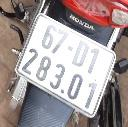0: (64, 71, 86, 102)
1: (81, 79, 101, 111), (83, 46, 103, 77)
2: (19, 47, 43, 76)
3: (47, 61, 69, 92)
6: (38, 22, 60, 52)
7: (49, 28, 71, 56)
8: (34, 54, 55, 83)
D: (69, 37, 93, 69)
